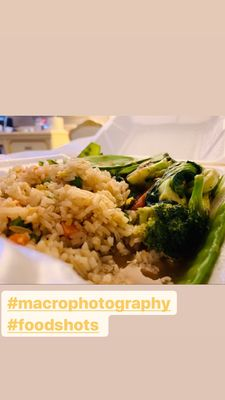curry: (143, 167, 212, 259)
